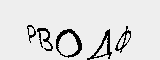В: (37, 26, 55, 54)
Д: (86, 27, 112, 60)
О: (55, 28, 82, 58)
Р: (23, 22, 36, 47)
Ф: (114, 25, 134, 54)
